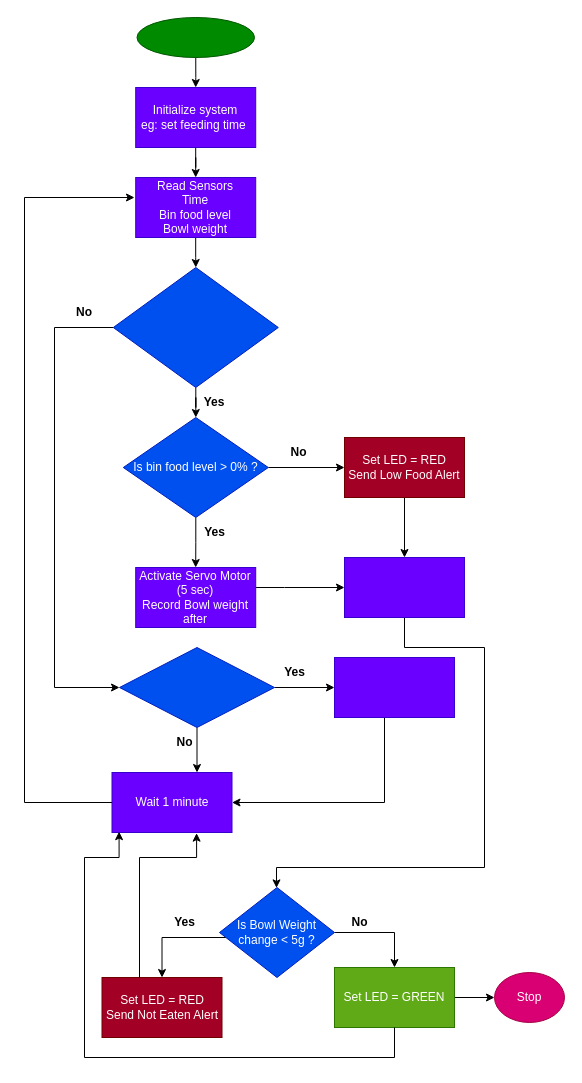
Some shapes in this 582 by 1083 pixel diagram are drawn without their labels. Here are the shapes that lost their labels. From the top down, the box of each, then its label:
(136, 16, 254, 58): Start
(112, 266, 278, 388): Is Current time == 8AM or 6PM ?
(344, 556, 464, 618): Wait for 10 minutes
(118, 646, 274, 728): Is bin food level < 15% ?
(334, 656, 454, 718): Set LED = YELLOW
